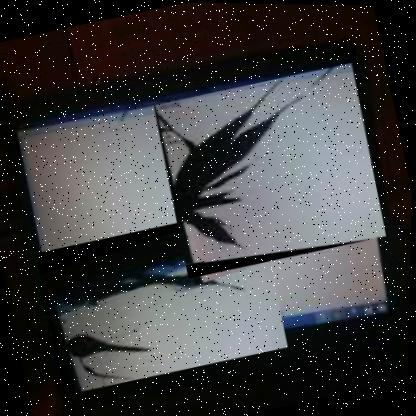crack: (149, 60, 391, 282), (33, 202, 292, 399)
